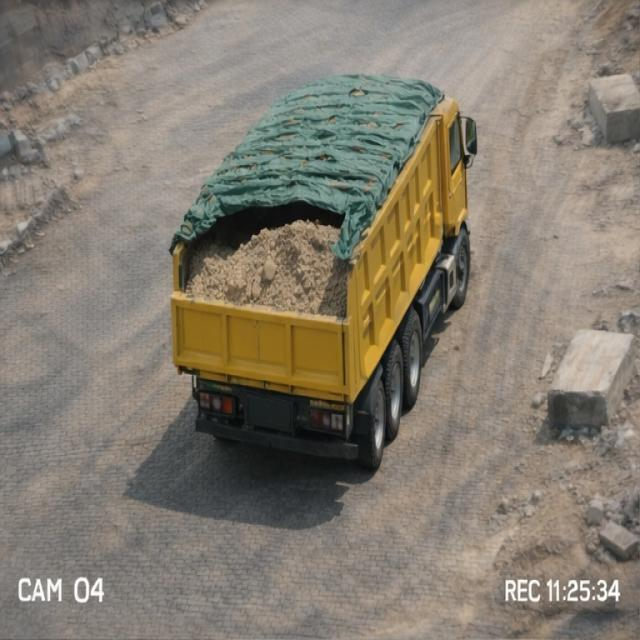trailer: (173, 83, 440, 314)
truck: (166, 70, 480, 464)
